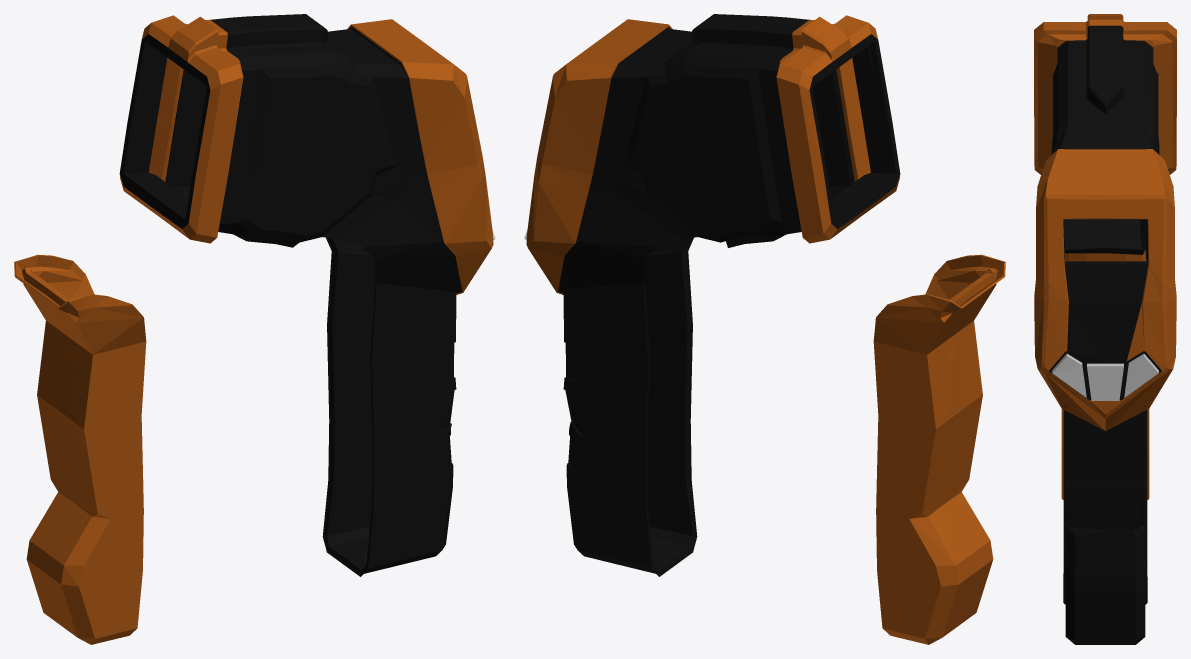
3 renders of one model, left to right at view 1: azimuth 30°, elevation 25°; view 2: azimuth 150°, elevation 25°; view 3: azimuth 270°, elevation 25°, orthographic. The views are drawn at different scales.
Visible parts, largest first — view 1: Infrared_Thermometer.005, Infrared_Thermometer.002; view 2: Infrared_Thermometer.005, Infrared_Thermometer.002; view 3: Infrared_Thermometer.005, Infrared_Thermometer.002.
Part boxes in pixels (x1,y1,x2,y2): Infrared_Thermometer.005: (119,14,495,576); Infrared_Thermometer.002: (14,254,146,644); Infrared_Thermometer.005: (524,14,900,576); Infrared_Thermometer.002: (873,254,1005,644); Infrared_Thermometer.005: (1034,14,1176,644); Infrared_Thermometer.002: (1061,250,1149,499).
Bounding box in the file's own units: 0.1452 × 0.1857 × 0.0447.
